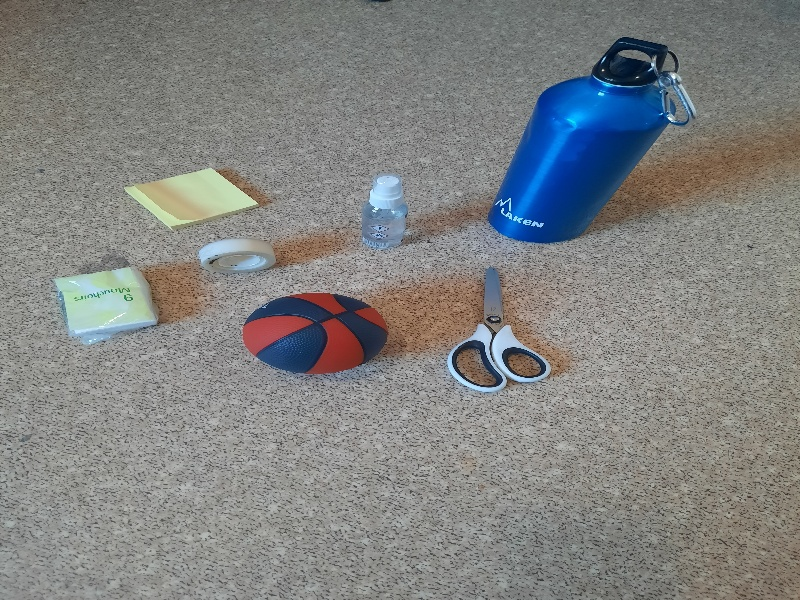ballon: (240, 293, 389, 379)
ciseaux: (448, 265, 553, 396)
gel: (361, 172, 409, 254)
gourde: (486, 35, 697, 246)
mouchoirs: (50, 265, 164, 345)
post-it: (121, 165, 263, 229)
scotch: (194, 239, 282, 277)
